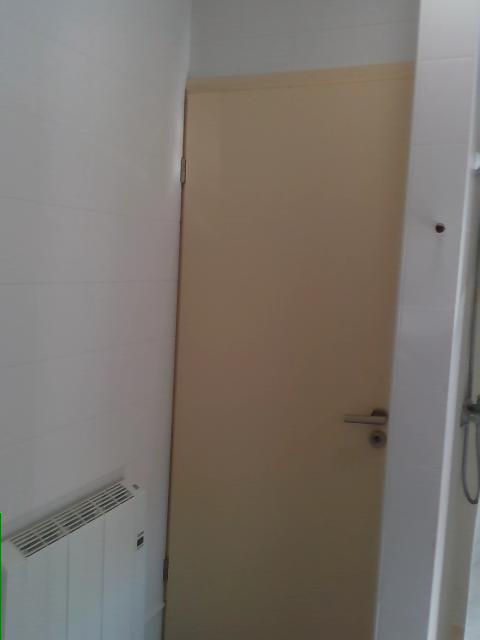door: (159, 60, 425, 639)
